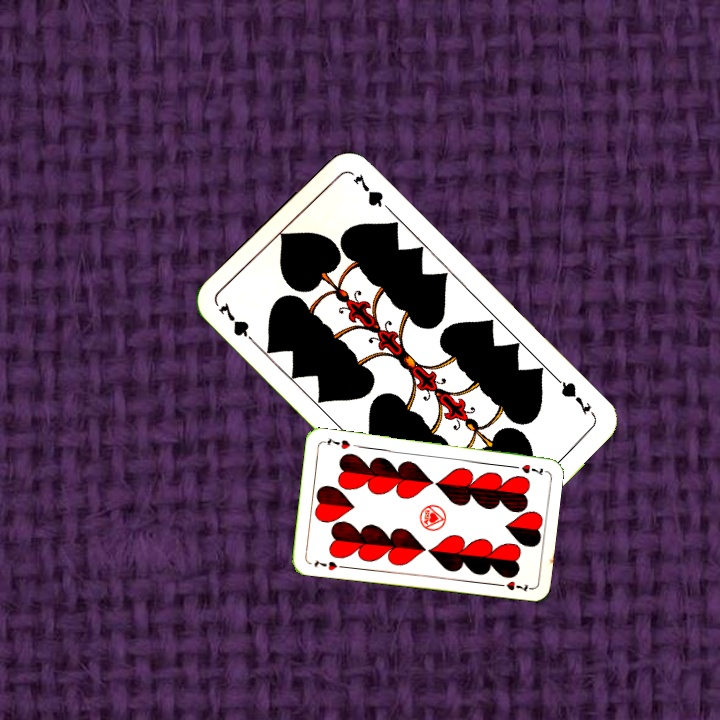G7: (552, 374, 599, 421), (215, 299, 259, 348)
H7: (507, 460, 547, 476), (310, 556, 339, 573)
